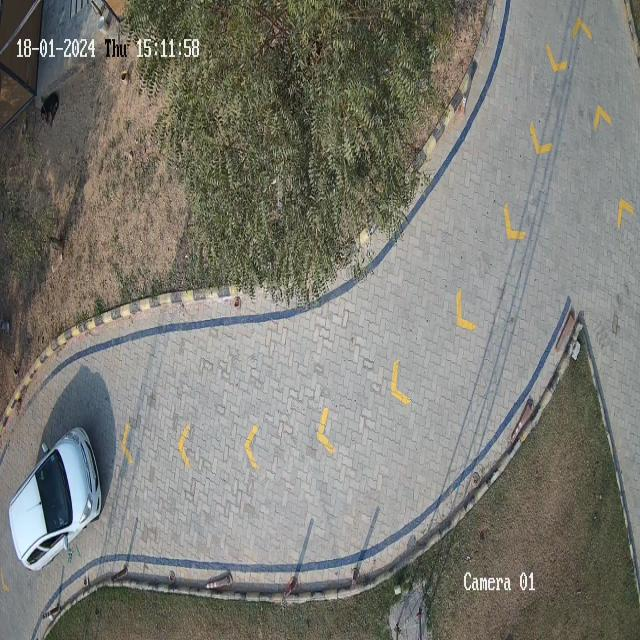car: (8, 425, 102, 574)
